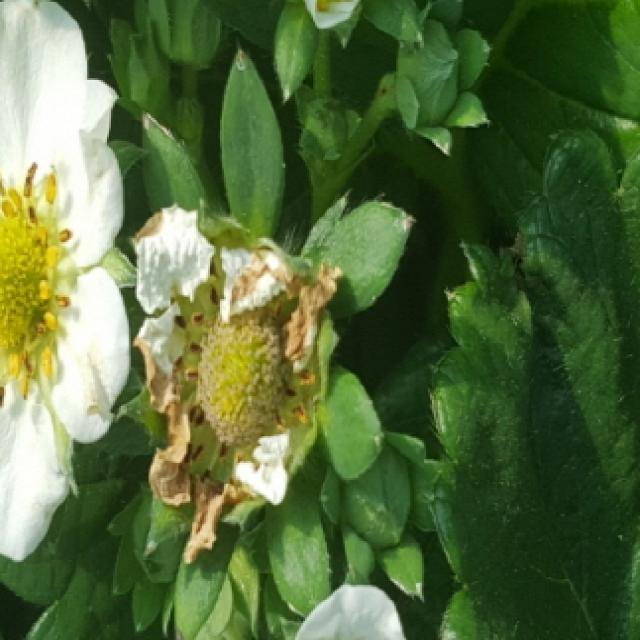Blossom Blight: (167, 255, 318, 496), (0, 156, 77, 412)
